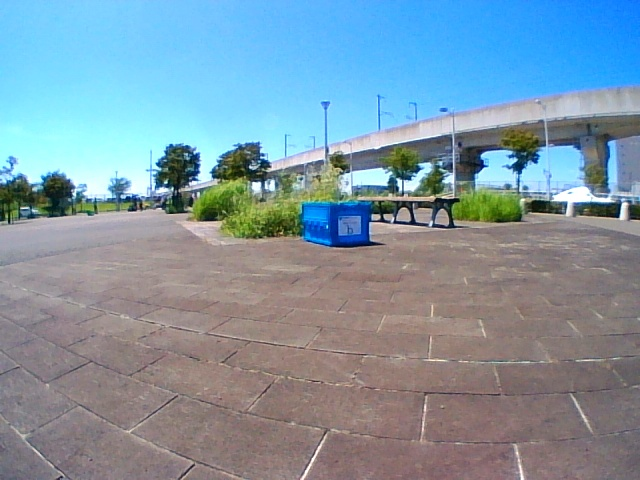blue_box: (303, 203, 369, 243)
tag_b: (338, 217, 360, 235)
